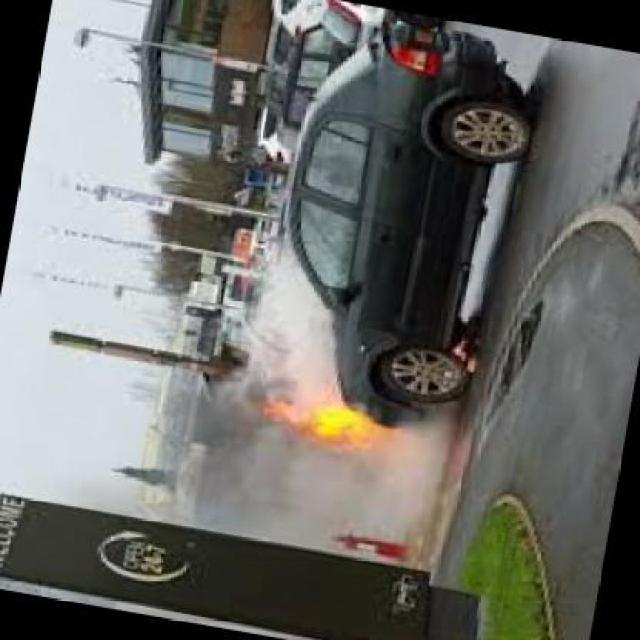Fire: (273, 398, 379, 448)
Smoke: (119, 452, 442, 553), (235, 259, 359, 396)
